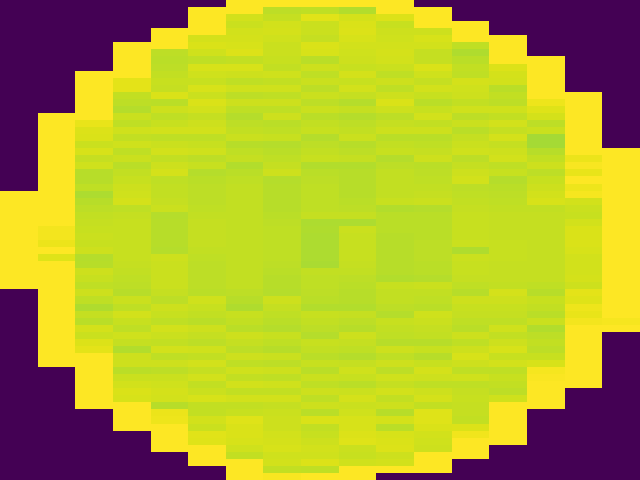sphere: (2, 3, 640, 480)
